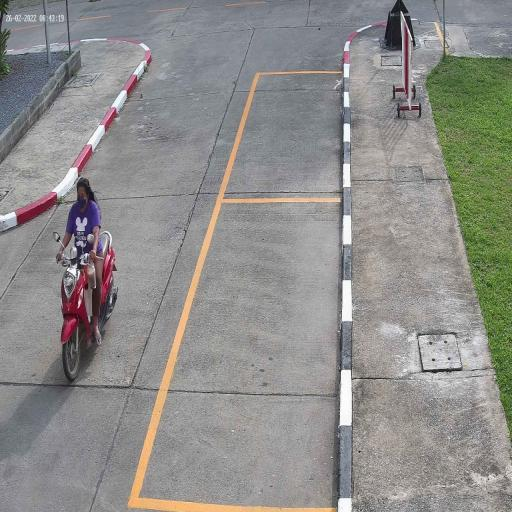motorcycle: (60, 229, 117, 377)
